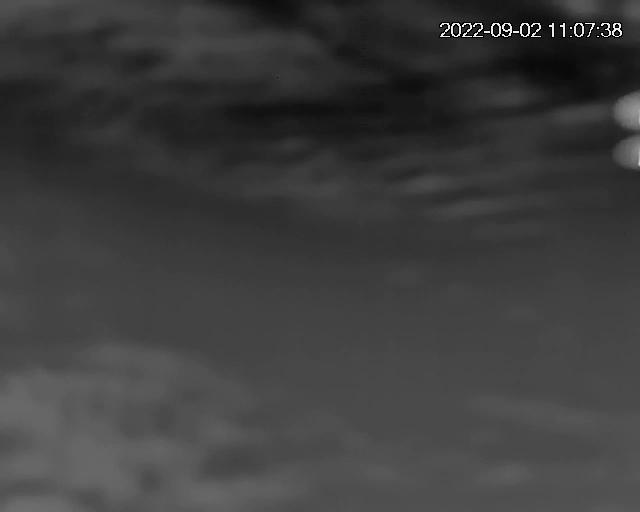DJI-Phantom: (616, 92, 640, 170)
